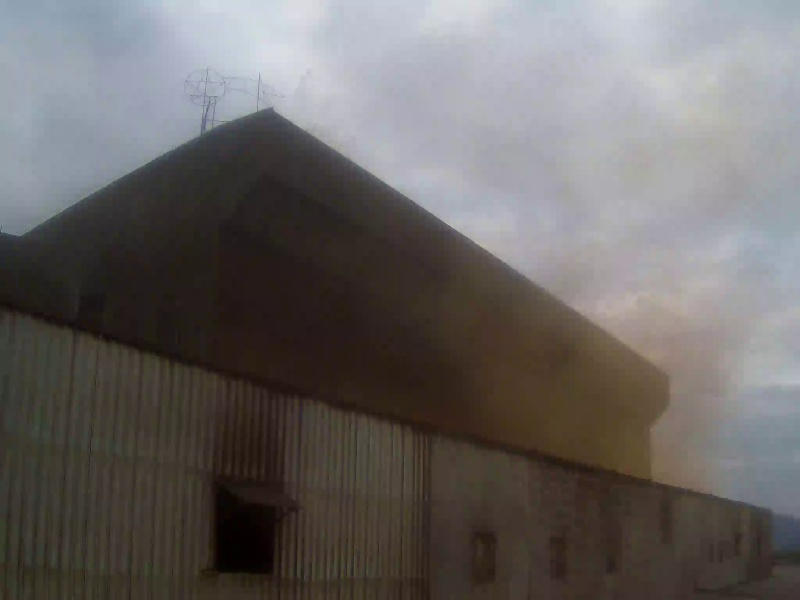Pessimo: (427, 208, 757, 480)
